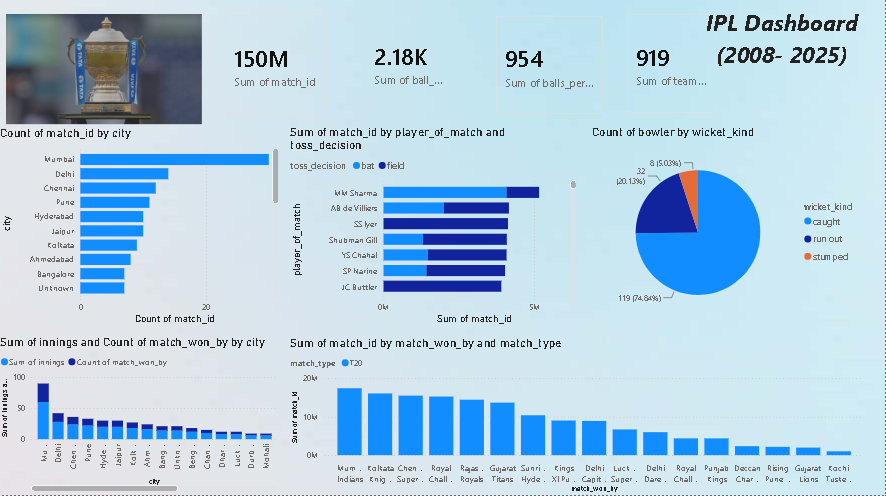

The page's visual inventory and layout, read from the dashboard file:
{"tool":"powerbi","page":{"name":"Page 1","canvas":[1280,720],"ordinal":0},"visuals":[{"type":"clusteredBarChart","fields":{"Y":["CountNonNull(IPL.match_id)"],"Category":["IPL.city"]},"box":[0,188.7,410.4,290.9],"z":0},{"type":"cardVisual","fields":{"Data":["Sum(IPL.team_wicket)"]},"box":[889.9,10.1,162.7,177.1],"z":2000},{"type":"cardVisual","fields":{"Data":["Sum(IPL.ball_no)"]},"box":[514.1,27.4,159.8,141.1],"z":3000},{"type":"cardVisual","fields":{"Data":["Sum(IPL.match_id)"]},"box":[311,11.5,178.6,177.1],"z":4000},{"type":"image","box":[0,27.9,307.1,158.7],"z":5000},{"type":"cardVisual","fields":{"Data":["Sum(IPL.balls_per_over)"]},"box":[701.3,13,188.6,175.7],"z":5001},{"type":"barChart","fields":{"Y":["Sum(IPL.match_id)"],"Category":["IPL.player_of_match"],"Series":["IPL.toss_decision"]},"box":[418.3,187.1,421.4,292.5],"z":5002},{"type":"pieChart","fields":{"Category":["IPL.wicket_kind"],"Y":["CountNonNull(IPL.bowler)"]},"box":[852.3,187.1,401,290.9],"z":5003},{"type":"columnChart","fields":{"Category":["IPL.city"],"Y":["Sum(IPL.innings)","CountNonNull(IPL.match_won_by)"]},"box":[0,490,410,230],"z":5004},{"type":"columnChart","fields":{"Y":["Sum(IPL.match_id)"],"Category":["IPL.match_won_by"],"Series":["IPL.match_type"]},"box":[418.3,490.6,835,229.6],"z":5005},{"type":"textbox","box":[980.6,11.5,299.5,119.5],"z":5006}]}

Visuals, with their boxes in screenshot pixels (x1, y1, x2, y2), scaled from the page's 1280x720 canvas onto the 886x496 screenshot:
clusteredBarChart - CountNonNull(IPL.match_id) x IPL.city: box=[0, 130, 284, 330]
cardVisual - Sum(IPL.team_wicket): box=[616, 7, 729, 129]
cardVisual - Sum(IPL.ball_no): box=[356, 19, 466, 116]
cardVisual - Sum(IPL.match_id): box=[215, 8, 339, 130]
image: box=[0, 19, 213, 129]
cardVisual - Sum(IPL.balls_per_over): box=[485, 9, 616, 130]
barChart - Sum(IPL.match_id) x IPL.player_of_match: box=[290, 129, 581, 330]
pieChart - IPL.wicket_kind x CountNonNull(IPL.bowler): box=[590, 129, 868, 329]
columnChart - IPL.city x Sum(IPL.innings): box=[0, 338, 284, 495]
columnChart - Sum(IPL.match_id) x IPL.match_won_by: box=[290, 338, 868, 495]
textbox: box=[679, 8, 885, 90]
